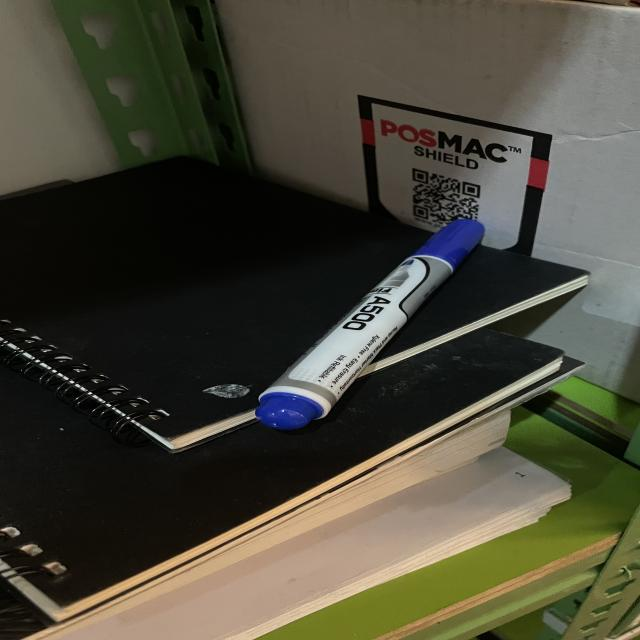marker: (256, 220, 484, 430)
